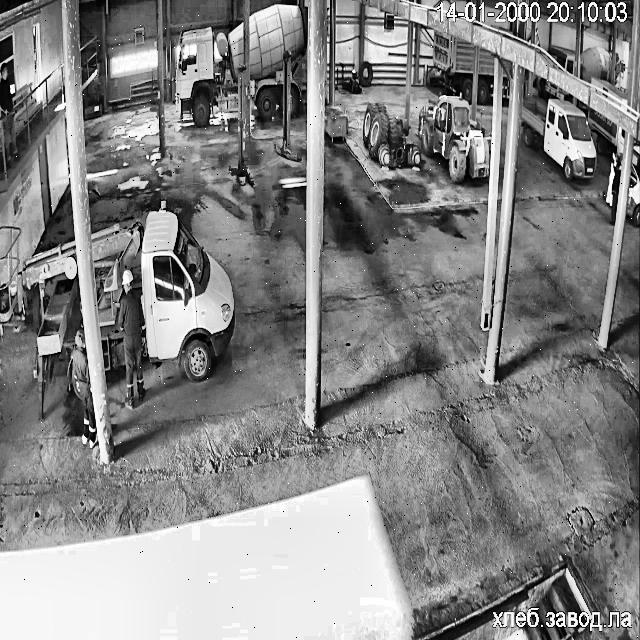class4: (118, 270, 144, 407), (72, 329, 96, 446), (0, 62, 16, 158), (610, 157, 620, 223)
class6: (418, 96, 489, 182), (362, 103, 420, 166)
class7: (92, 201, 234, 380), (176, 4, 306, 124), (0, 227, 80, 419), (521, 100, 595, 178), (433, 29, 474, 101), (588, 108, 623, 154), (626, 143, 640, 227), (580, 46, 610, 81), (591, 77, 628, 102), (477, 48, 494, 102), (548, 46, 574, 73), (534, 77, 569, 97), (603, 156, 615, 205), (500, 60, 510, 98), (68, 363, 76, 390), (616, 52, 623, 76)
truck: (229, 66, 252, 185), (275, 52, 300, 161)
